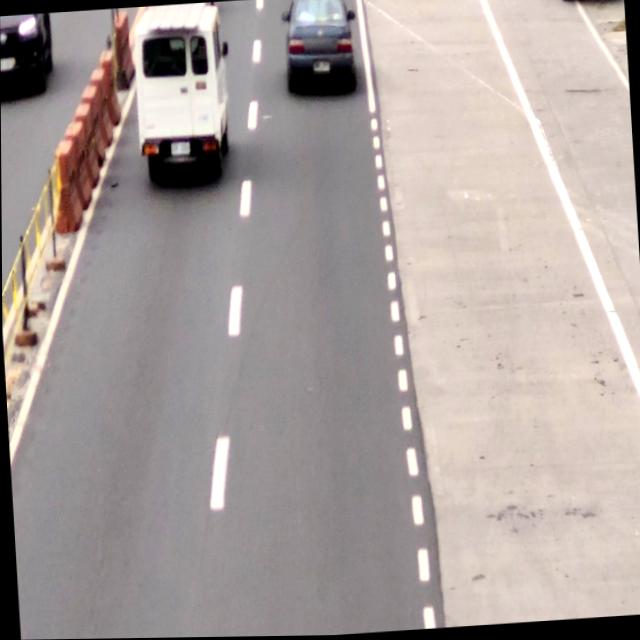Car: (131, 2, 231, 190), (276, 0, 363, 97)
License-Plate: (167, 137, 191, 159), (311, 60, 332, 75)
